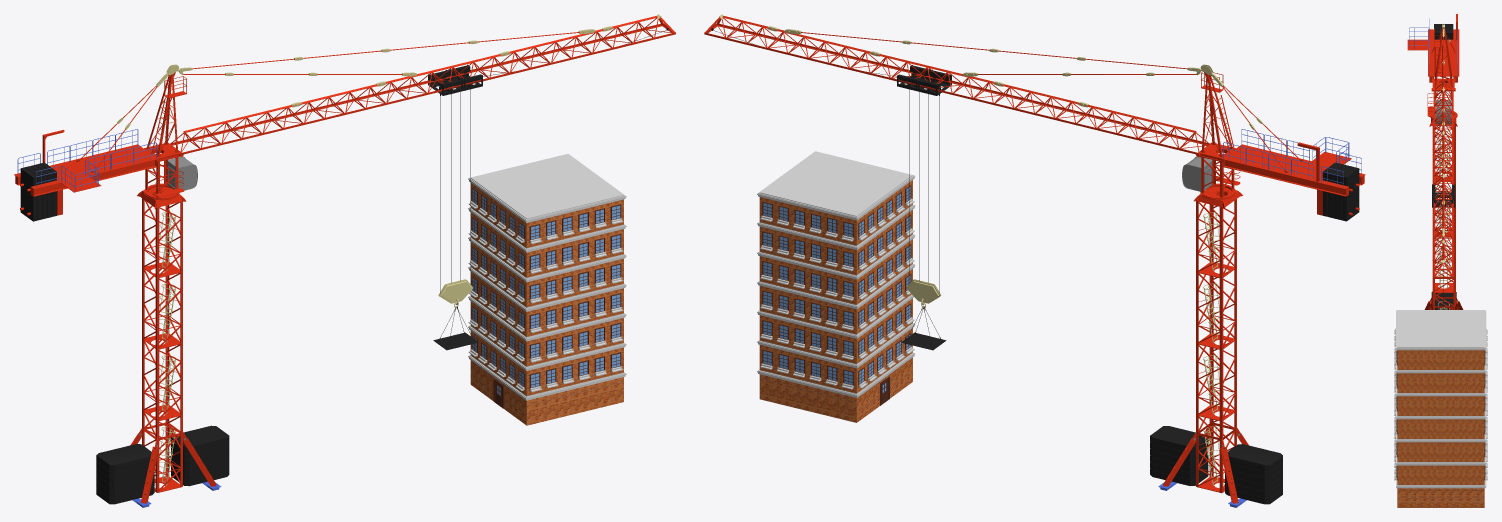
3 renders of one model, left to right at view 1: azimuth 30°, elevation 25°; view 2: azimuth 150°, elevation 25°; view 3: azimuth 270°, elevation 25°, orthographic. The views are drawn at different scales.
Parts seen in each view (by area): view 1: building, top-part, Box416, support, Box405, Box425, Box429, Box427; view 2: building, top-part, Box416, support, Box405, Box427, Box425, Box429; view 3: building, top-part, support, Box416, Box425, Cylinder227, Box429, Box424, Box405, Cylinder229.
Part boxes in pixels (x1,y1,x2,y2): building: (468,154,626,425); top-part: (14,14,675,350); Box416: (96,425,229,504); support: (142,198,182,492); Box405: (130,419,216,503); Box425: (143,340,180,419); Box429: (143,200,180,275); Box427: (143,268,180,347); building: (757,151,915,422); top-part: (704,14,1365,350); Box416: (1150,426,1282,504); support: (1196,199,1236,493); Box405: (1163,420,1248,503); Box427: (1198,271,1235,346); Box425: (1198,343,1235,418); Box429: (1198,202,1235,275); building: (1394,310,1487,507); top-part: (1407,14,1459,309); support: (1432,126,1455,309); Box416: (1431,291,1456,309); Box425: (1434,237,1453,291); Cylinder227: (1438,245,1449,288); Box429: (1435,126,1451,179); Box424: (1434,283,1453,292); Box405: (1424,295,1463,309); Cylinder229: (1438,134,1449,177).
Bounding box in the file's own units: 1990 × 1230 × 323.
Materials: 10 (1 with a texture image).
